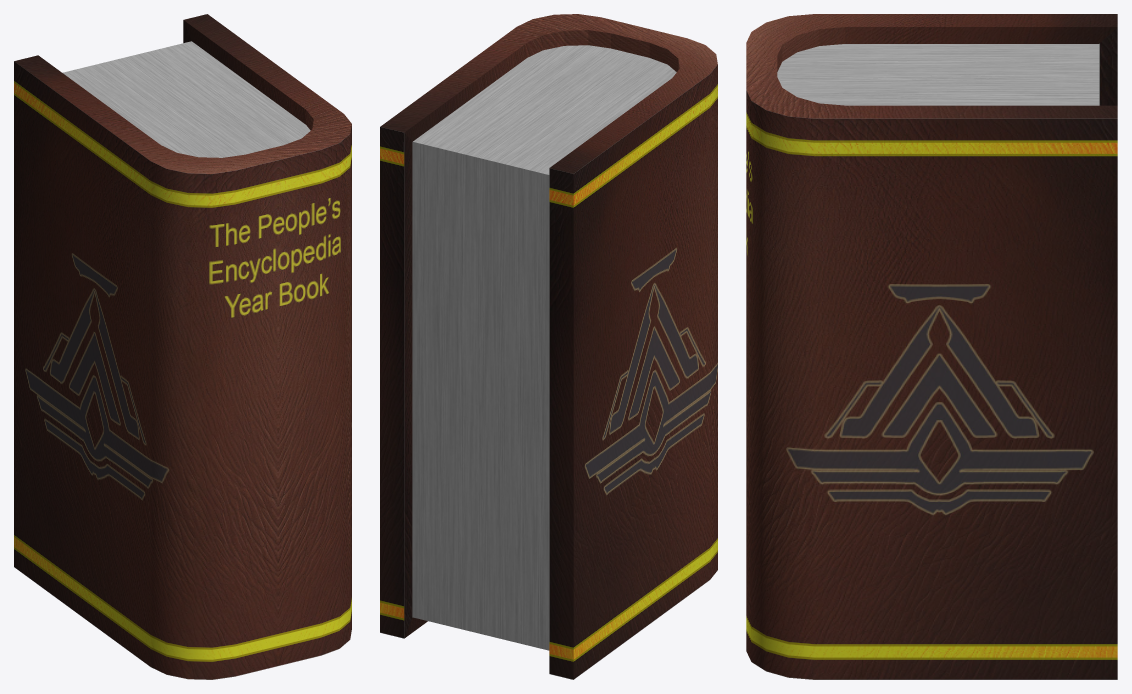
File: Book_1.fbx
3 renders of one model, left to right at view 1: azimuth 30°, elevation 25°; view 2: azimuth 150°, elevation 25°; view 3: azimuth 270°, elevation 25°, orthographic. The views are drawn at different scales.
Parts seen in each view (by area): view 1: Book_1; view 2: Book_1; view 3: Book_1.
Part boxes in pixels (x1,y1,x2,y2): Book_1: [14, 14, 351, 679]; Book_1: [380, 14, 717, 679]; Book_1: [746, 14, 1117, 679].
Bounding box in the file's own units: 40 × 100 × 60.
1 material, 1 textured.
